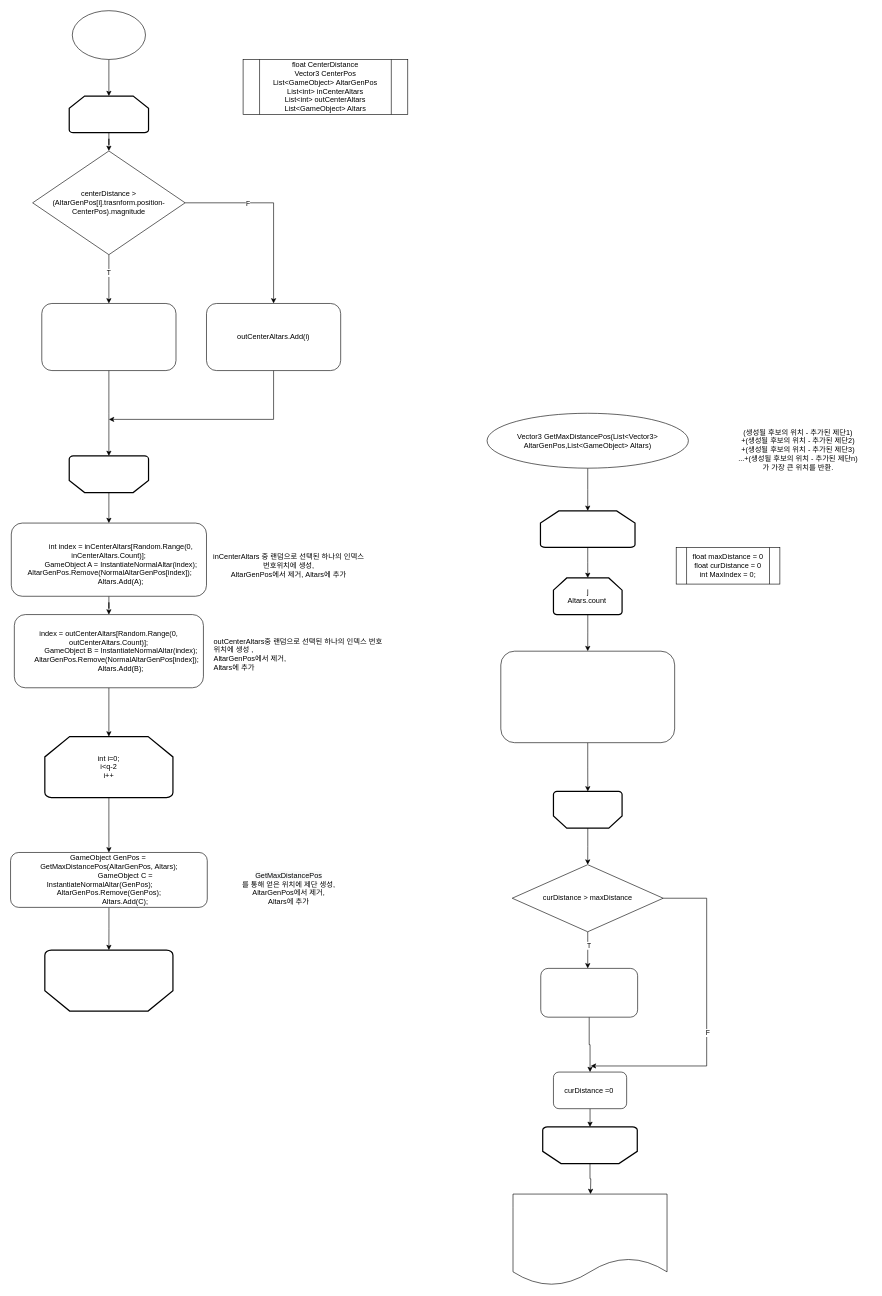
This 882x1296 diagram has some shape labels left out. The shapes that lost their labels are listed below. From the top down, each one's centre as x and y in pixels, then its label:
pixel 108 114: int i=0; i< AltarGenPos.count ;i++
pixel 108 337: inCenterAltars .Add(i)
pixel 587 529: i AltarGenPos.count
pixel 587 697: curDistance+= (AltarGenPos[i] - Altars[j]).transform.position.magnitude
pixel 589 992: MaxIndex = i MaxDistance = curDistance
pixel 589 1239: return AltarGenPos[maxIndex].transform.position
